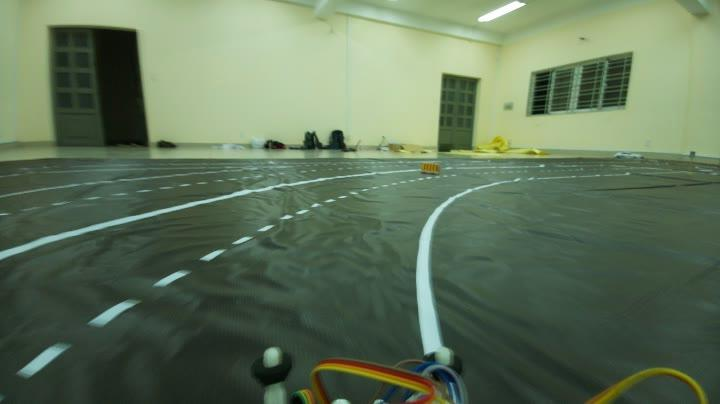roadblock: (418, 157, 442, 176)
